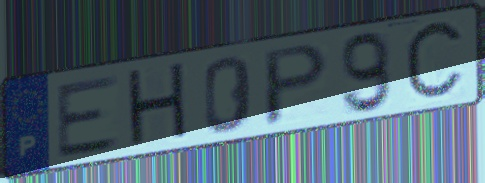0: (202, 53, 254, 138)
9: (338, 29, 395, 115)
C: (402, 15, 468, 108)
E: (54, 72, 122, 162)
H: (124, 59, 193, 153)
P: (261, 41, 332, 131)
